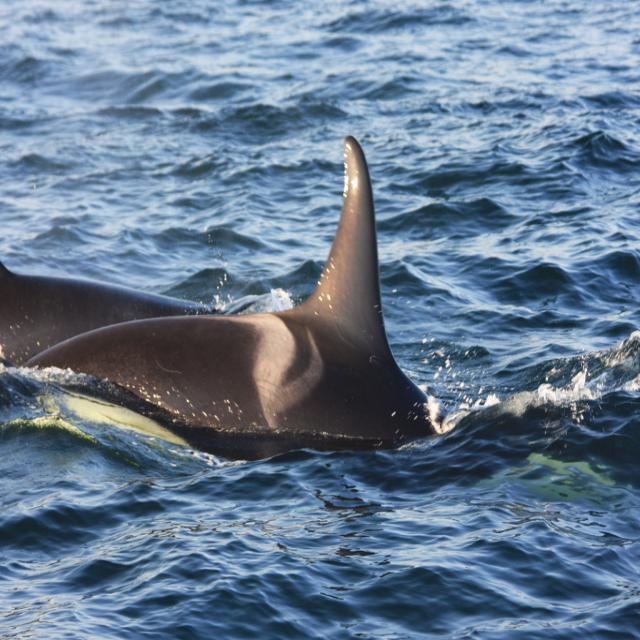Shark: (0, 138, 434, 453)
